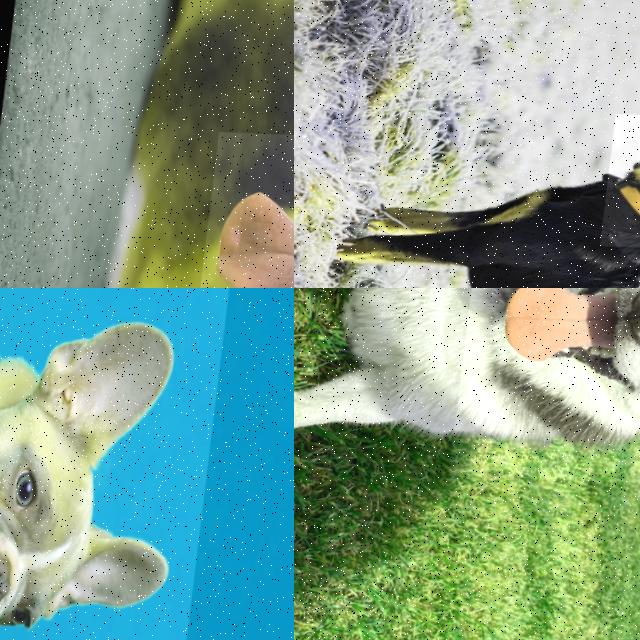beagle: (163, 124, 294, 288)
bulldog: (0, 288, 230, 640)
husky: (451, 288, 640, 501)
rottweiler: (600, 111, 640, 260)
